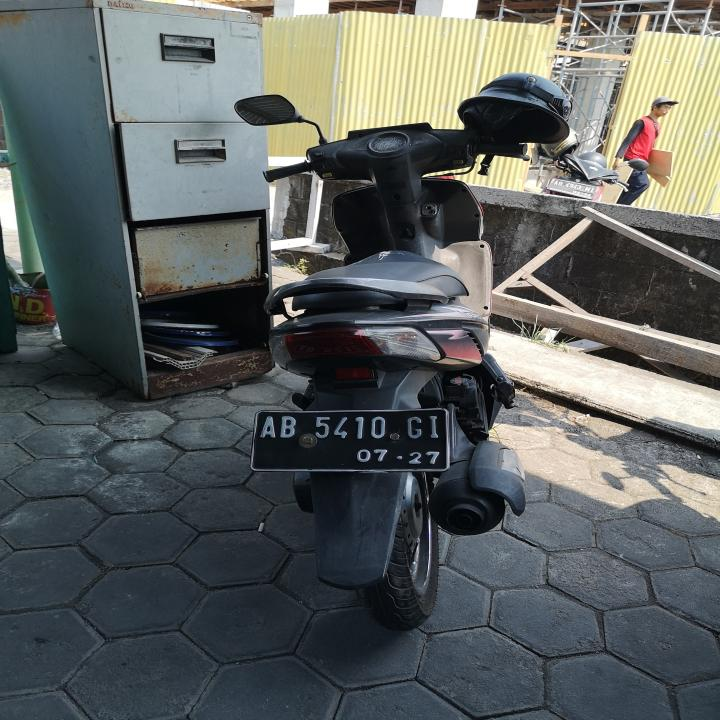plate: (251, 404, 456, 477)
